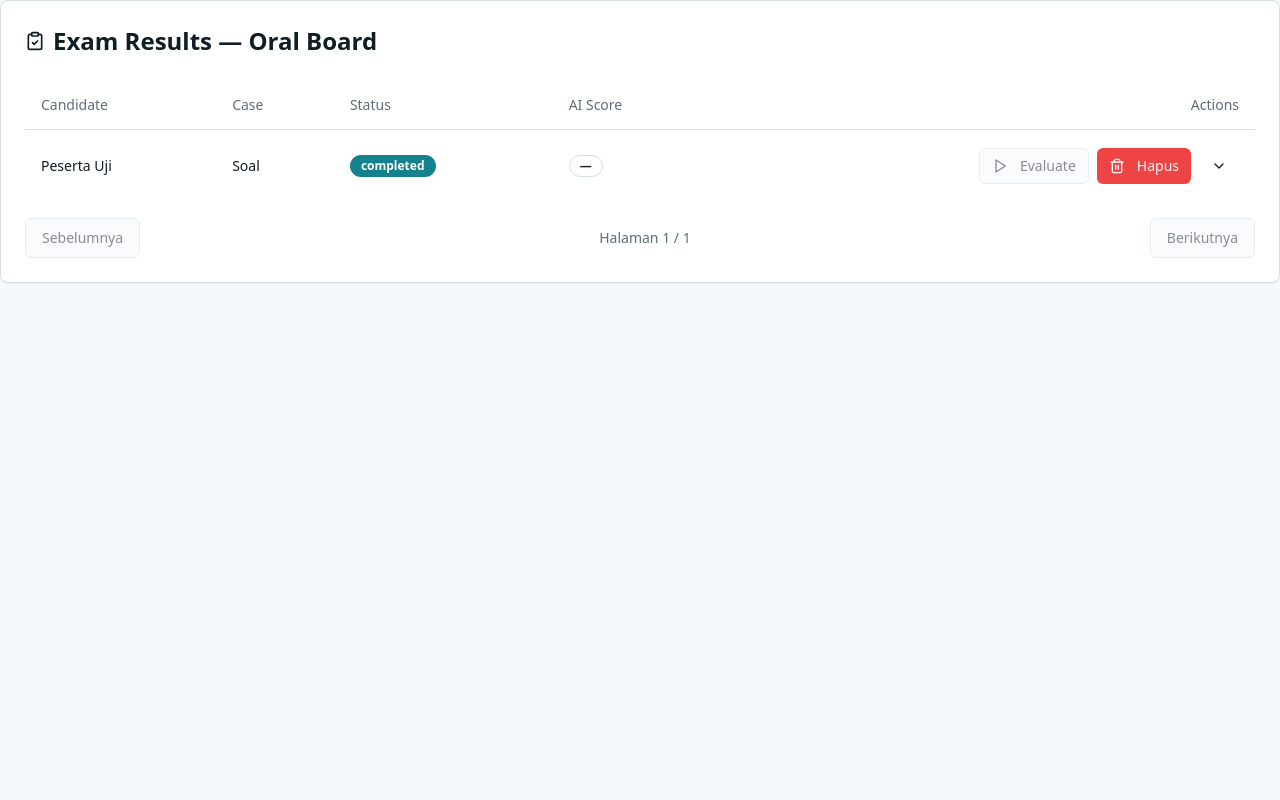
Test: result case context loading › leaves admin summaries light and loads context for the expanded result
This screenshot has width=1280, height=800.
Step 1. Click the text "Peserta Uji" → (76, 165), box [25,129,216,202]
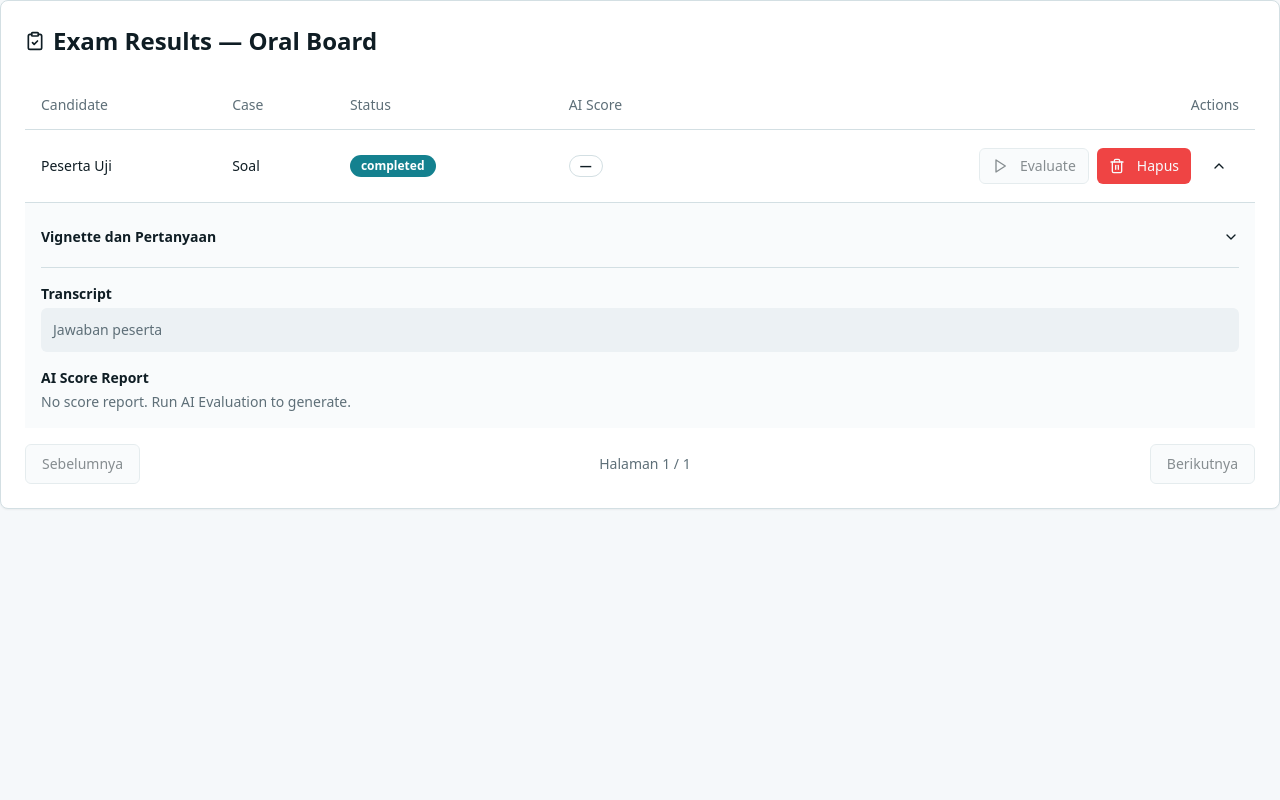
Expected: the text "Jawaban peserta" is shown, [41,308,1239,352]
Step 2. Click the button "Vignette dan Pertanyaan" → (129, 236), box [41,218,1239,254]
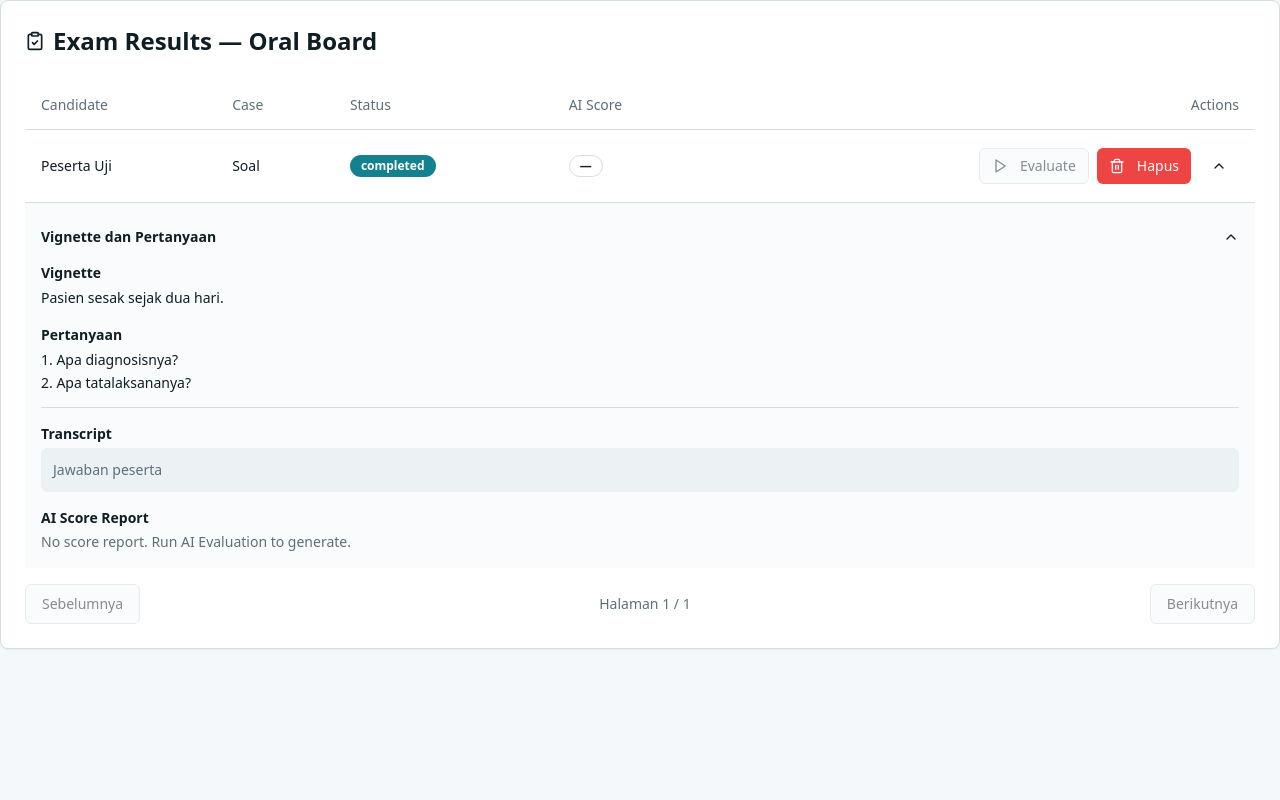
Expected: the text "Pasien sesak sejak dua hari." is shown, [41,288,224,306]
